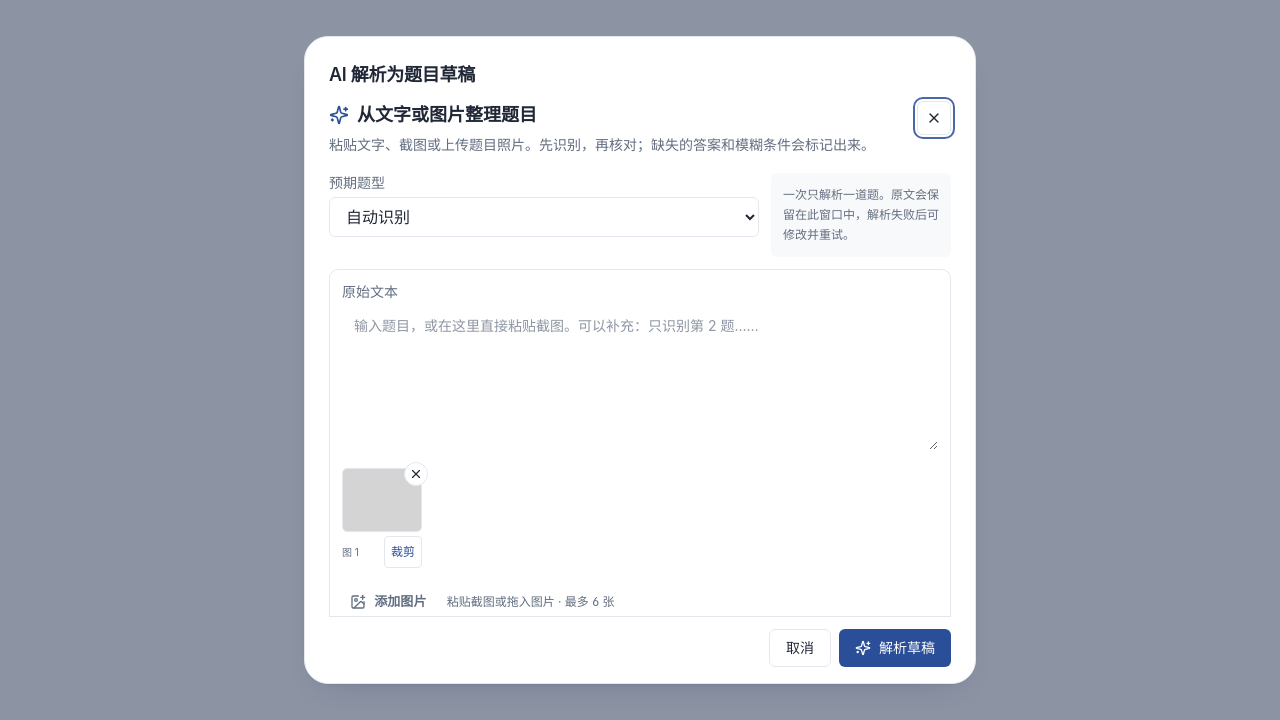
Test: image question extraction › accepts pasted screenshots and keeps the input after a model error
Click the button "解析草稿" at (895,648), box [839, 629, 951, 667]
(page scrolled)
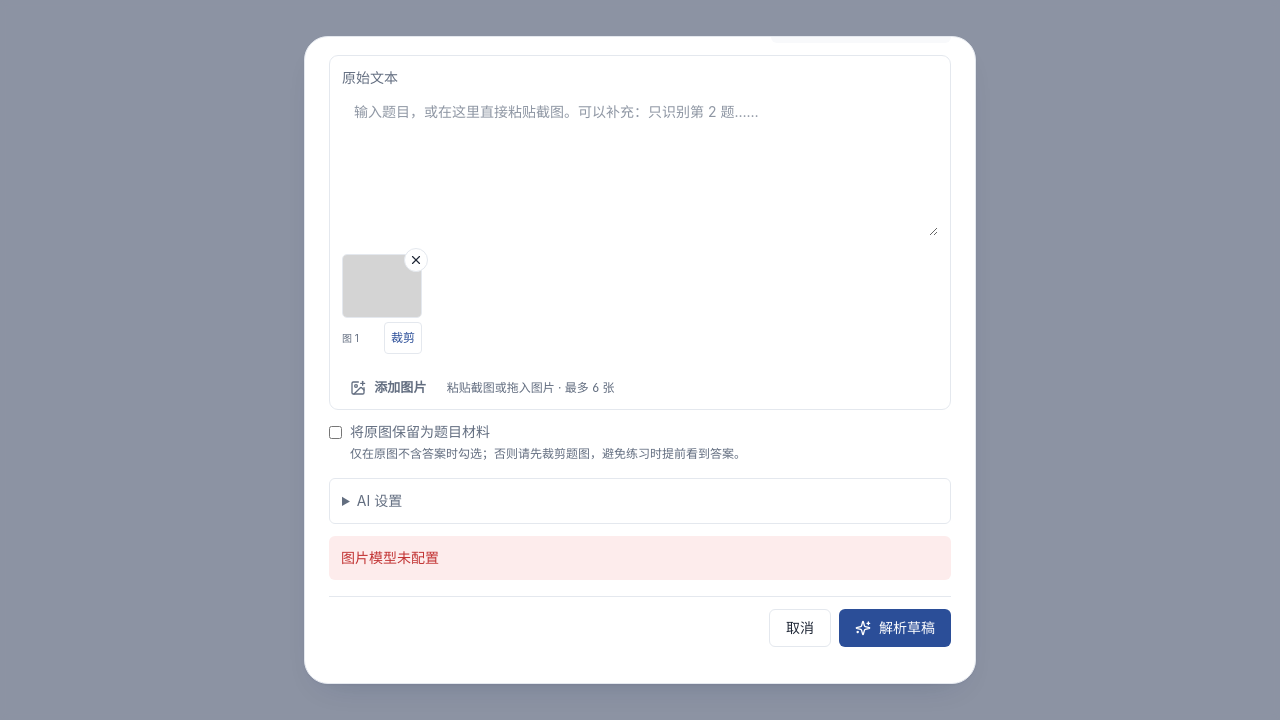
Check: the message "图片模型未配置" is shown, box [329, 536, 951, 580]
Check: the message reads "图片模型未配置", box [341, 549, 439, 566]
